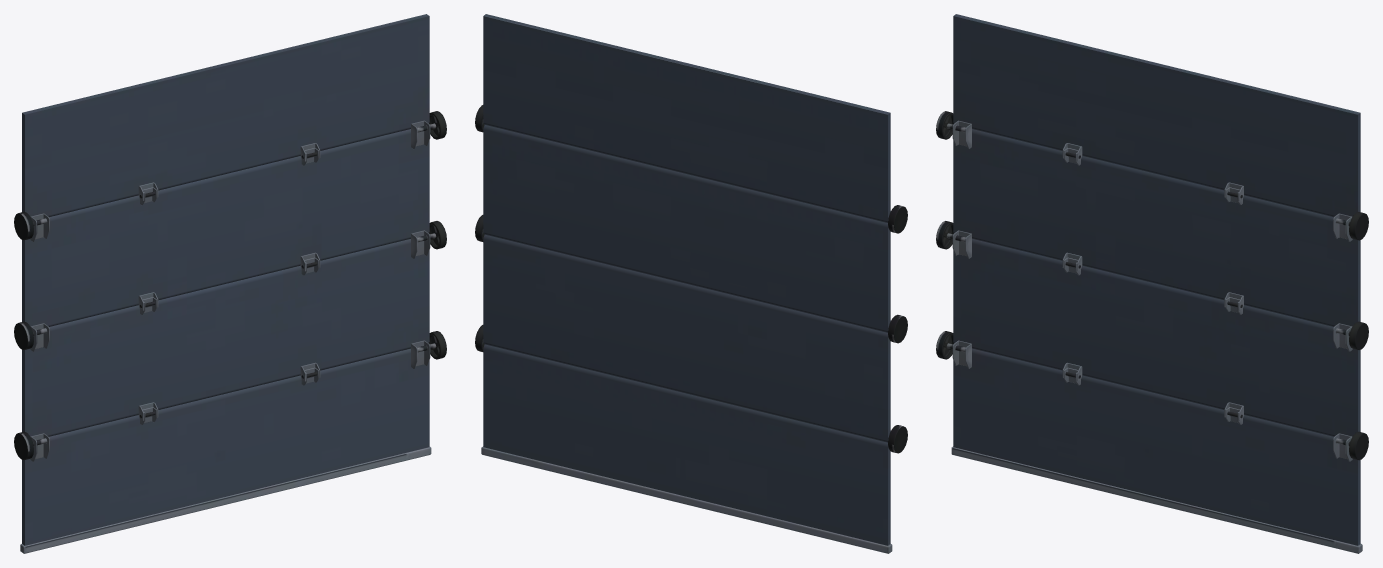
Rendered from dockdeur.glb.
3 views of the same model, side by side, from view 1: azimuth 30°, elevation 25°; view 2: azimuth 150°, elevation 25°; view 3: azimuth 330°, elevation 25° (orthographic).
Parts seen in each view (by area): view 1: Door; view 2: Door; view 3: Door.
Part boxes in pixels (x1,y1,x2,y2): Door: [14, 14, 446, 553]; Door: [475, 14, 907, 553]; Door: [936, 14, 1368, 553].
Size of the model in its own units: 3.11 by 3.11 by 0.1796.
1 material, 1 textured.
